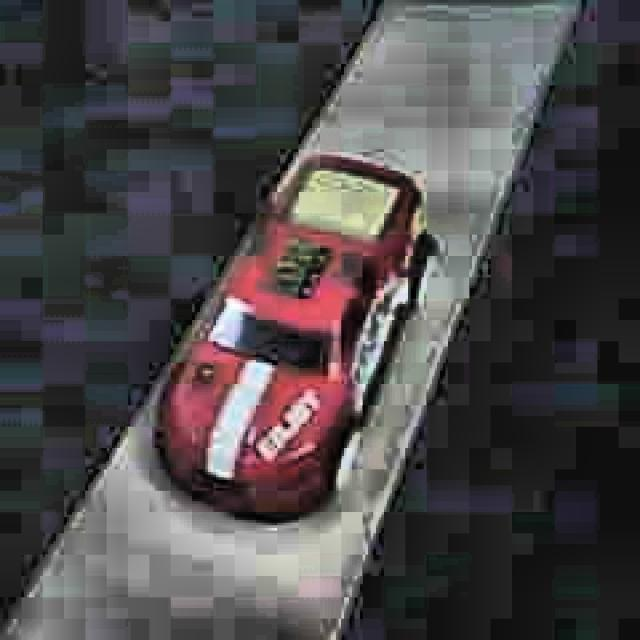car: (150, 149, 438, 526)
